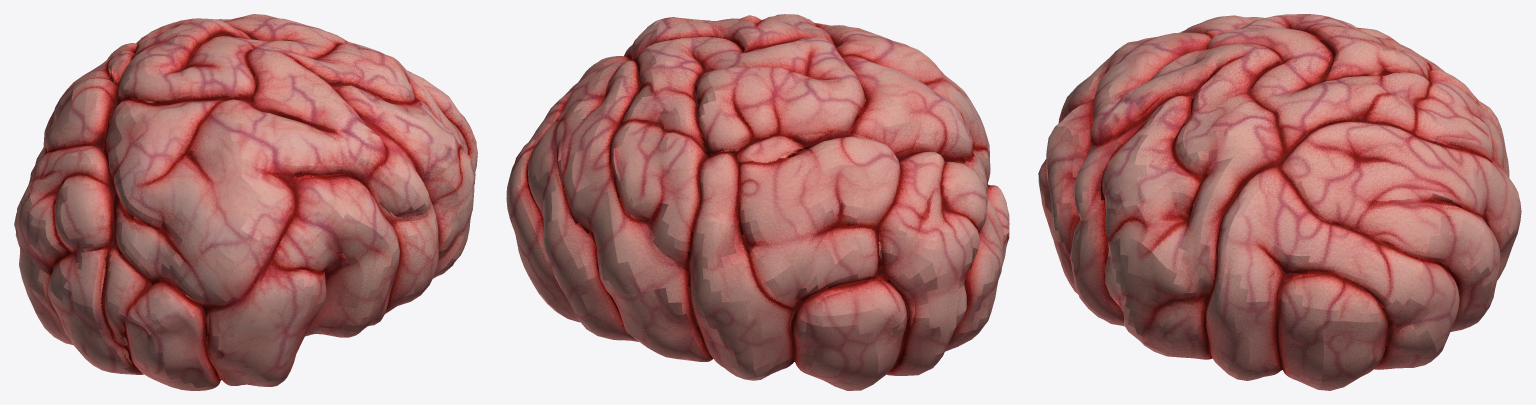
File: twia_brain.glb
The picture shows the model from 3 angles, left to right: view 1: azimuth 30°, elevation 25°; view 2: azimuth 150°, elevation 25°; view 3: azimuth 270°, elevation 25°; orthographic projection. The views are drawn at different scales.
Visible parts, largest first — view 1: Object_6, Object_9, Object_12; view 2: Object_6, Object_9, Object_12; view 3: Object_6, Object_12, Object_9.
Part boxes in pixels (<box>): Object_6: <box>16,14,477,382</box>; Object_9: <box>14,71,399,390</box>; Object_12: <box>21,18,474,359</box>; Object_6: <box>506,14,1009,377</box>; Object_9: <box>543,113,1008,390</box>; Object_12: <box>570,15,1009,379</box>; Object_6: <box>1057,14,1521,390</box>; Object_12: <box>1066,14,1500,346</box>; Object_9: <box>1038,28,1519,331</box>.
Bounding box in the file's own units: 4.5 × 2.84 × 4.21.
Materials: 1 (1 with a texture image).
